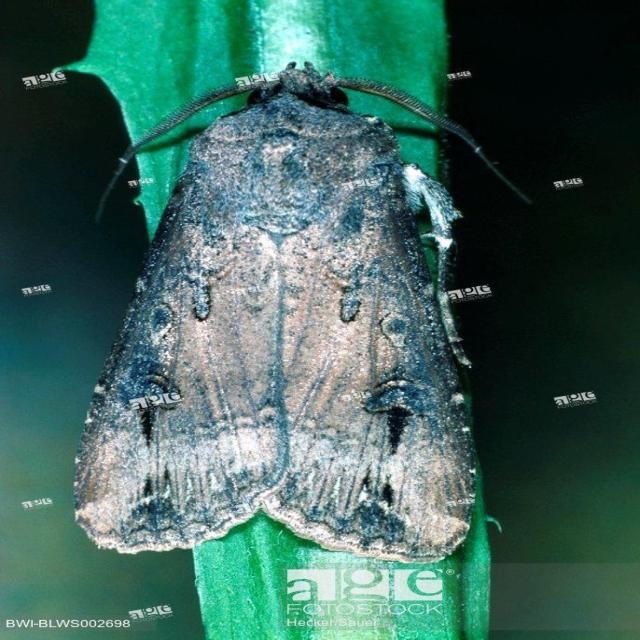black cutworm: (72, 70, 510, 565)
